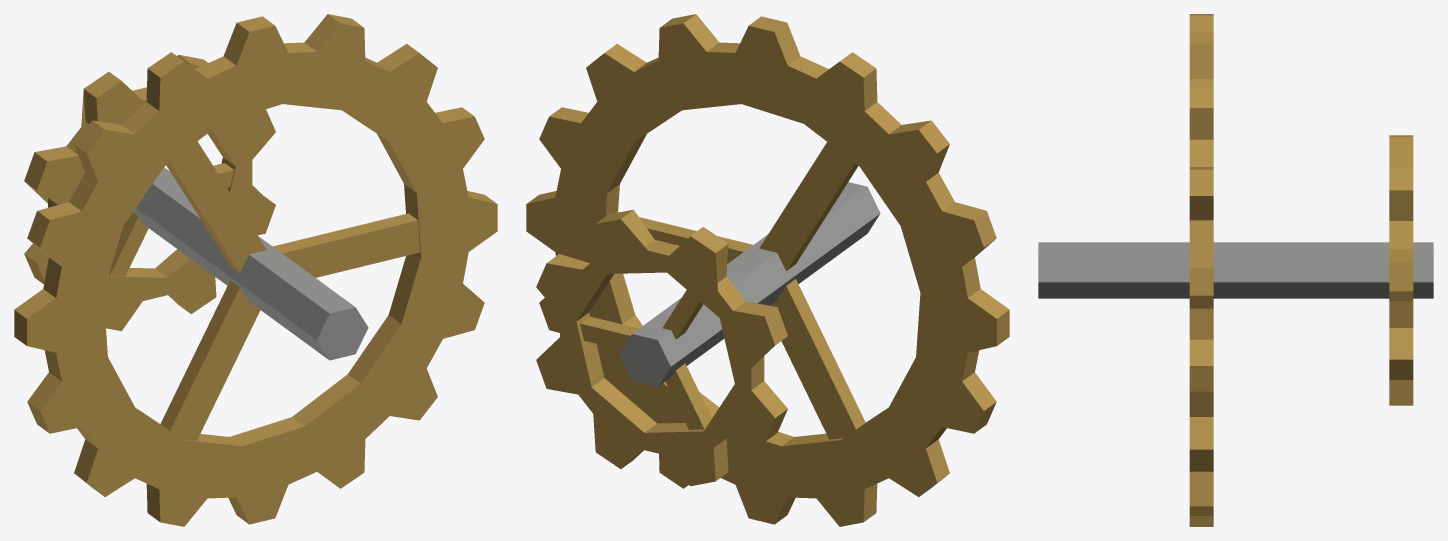
Rendered from PlanetArbor.glb.
3 views of the same model, side by side, from view 1: azimuth 30°, elevation 25°; view 2: azimuth 150°, elevation 25°; view 3: azimuth 270°, elevation 25° (orthographic). The views are drawn at different scales.
Parts seen in each view (by area): view 1: PlanetArbor; view 2: PlanetArbor; view 3: PlanetArbor.
Part boxes in pixels (x1,y1,x2,y2): PlanetArbor: (14,14,497,526); PlanetArbor: (526,14,1009,526); PlanetArbor: (1038,14,1433,526).
Size of the model in its own units: 0.254 by 0.254 by 0.196.
